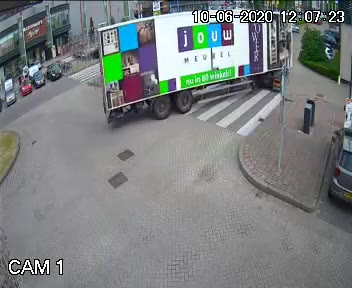car: (77, 3, 303, 113)
